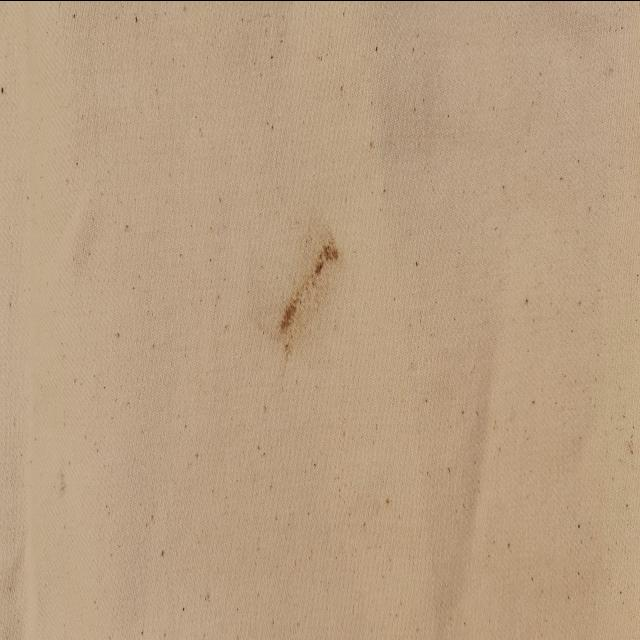taaaches: (262, 215, 350, 362)
